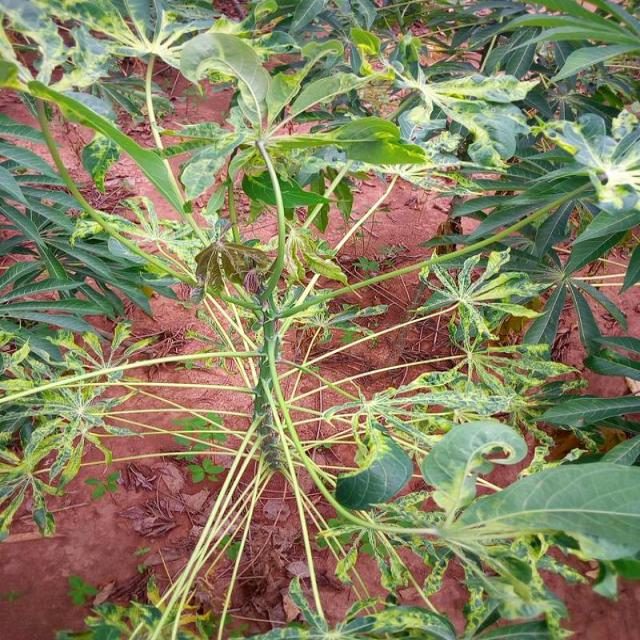cassava leaf: (450, 459, 638, 563), (420, 418, 527, 520), (334, 423, 414, 510), (178, 29, 270, 104)
